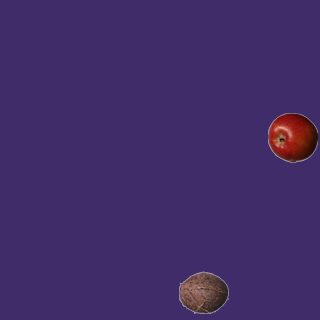Apple Braeburn: (267, 112, 317, 162)
Cocos: (178, 267, 228, 317)
